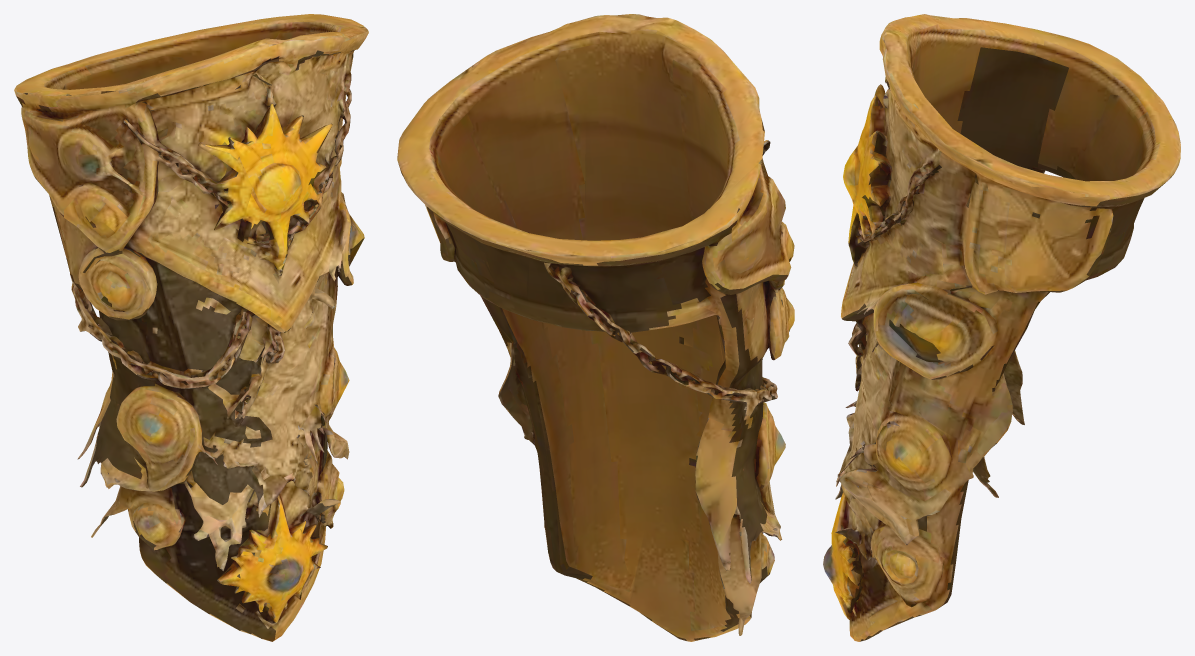
The model's file is guardiao-bracal.glb.
3 views of the same model, side by side, from view 1: azimuth 30°, elevation 25°; view 2: azimuth 150°, elevation 25°; view 3: azimuth 270°, elevation 25° (orthographic). The views are drawn at different scales.
Parts seen in each view (by area): view 1: tripo_node_4670444a-c687-4d4d-a4a6-7877dc2e087a; view 2: tripo_node_4670444a-c687-4d4d-a4a6-7877dc2e087a; view 3: tripo_node_4670444a-c687-4d4d-a4a6-7877dc2e087a.
Boxes of the visible parts, bbox=[...] form: tripo_node_4670444a-c687-4d4d-a4a6-7877dc2e087a: bbox=[14, 14, 368, 641]; tripo_node_4670444a-c687-4d4d-a4a6-7877dc2e087a: bbox=[397, 14, 794, 641]; tripo_node_4670444a-c687-4d4d-a4a6-7877dc2e087a: bbox=[823, 14, 1180, 641].
Bounding box in the file's own units: 0.5507 × 0.9744 × 0.5189.
Materials: 1 (1 with a texture image).
